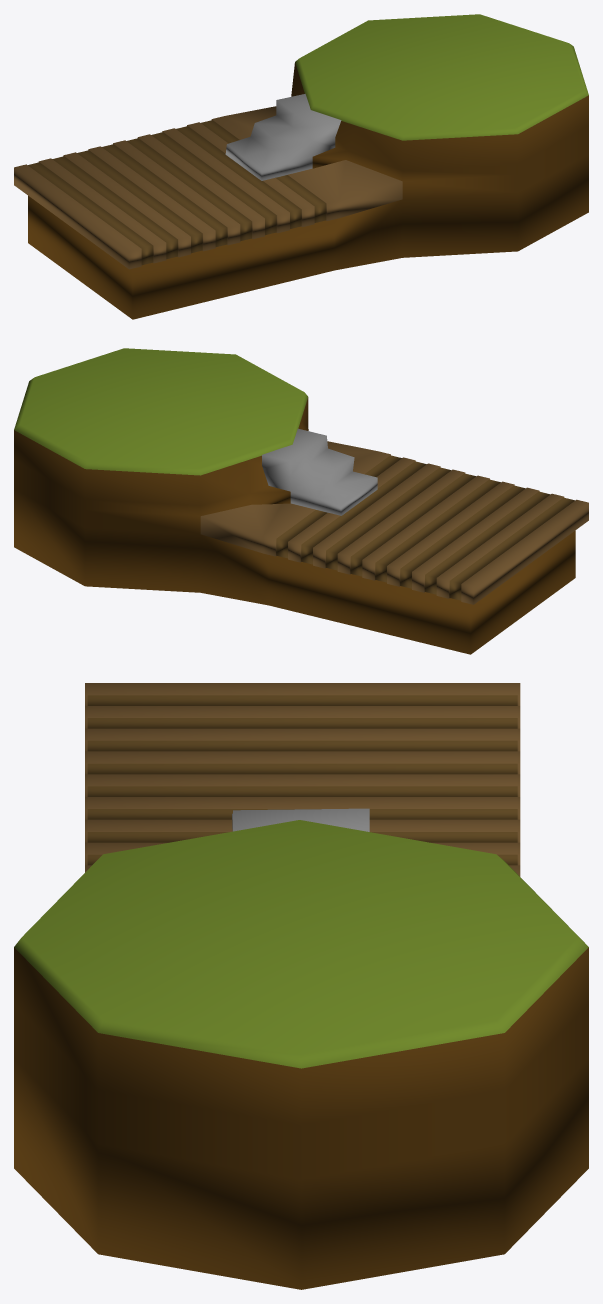
Rendered from FrogBase.glb.
The picture shows the model from 3 angles, top to bottom: view 1: azimuth 30°, elevation 25°; view 2: azimuth 150°, elevation 25°; view 3: azimuth 270°, elevation 25°; orthographic projection. The views are drawn at different scales.
Parts seen in each view (by area): view 1: FrogBase; view 2: FrogBase; view 3: FrogBase.
Part boxes in pixels (bbox=[...]): FrogBase: bbox=[14, 14, 588, 319]; FrogBase: bbox=[14, 348, 588, 654]; FrogBase: bbox=[14, 683, 588, 1289].
Size of the model in its own units: 40.3 by 9.36 by 21.17.
